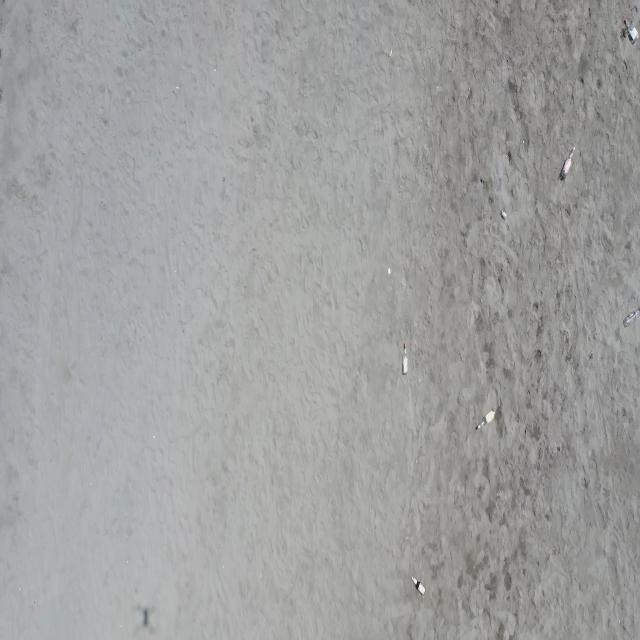glass: (561, 146, 576, 177), (477, 408, 496, 429), (624, 307, 640, 328), (625, 18, 639, 42), (411, 576, 426, 595), (402, 342, 408, 376), (500, 209, 507, 220)
